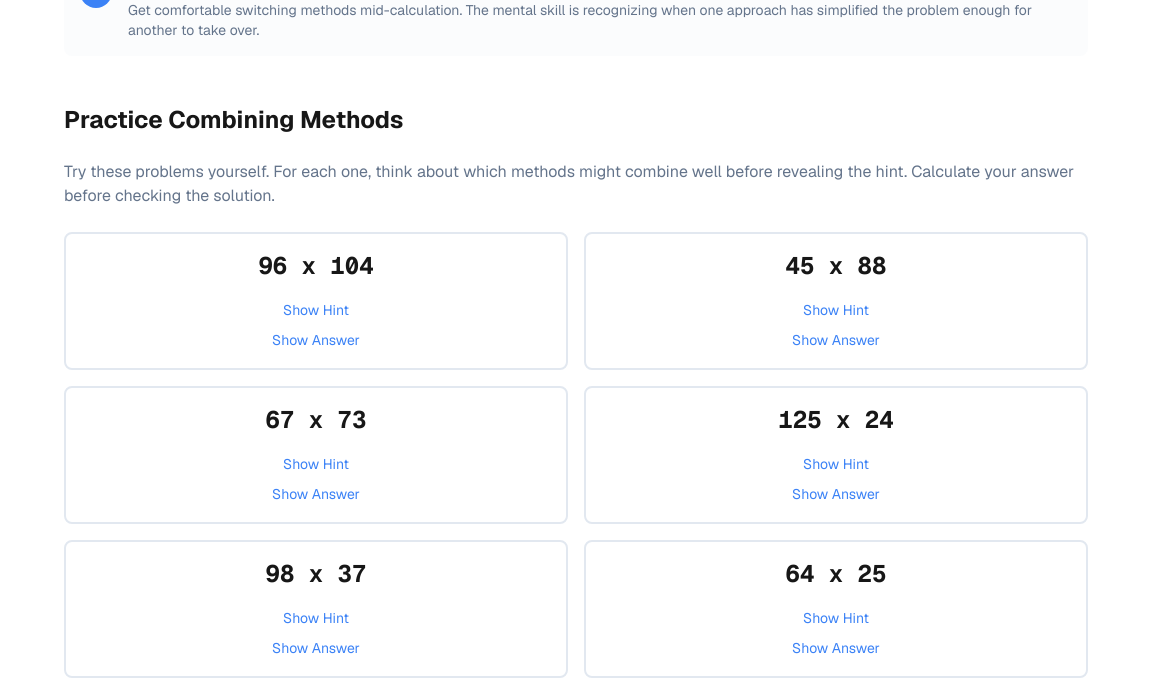
Test: CombiningTechniquesPage › mathematical correctness › should display correct answers for practice problems
(page scrolled)
# Check first few problems have correct answers (format: "Answer: X")
What coordinates should you click on to do the following:
click the 1st button "Show Answer"
I would click on:
 (316, 340)
Its box is [82,330,550,350].
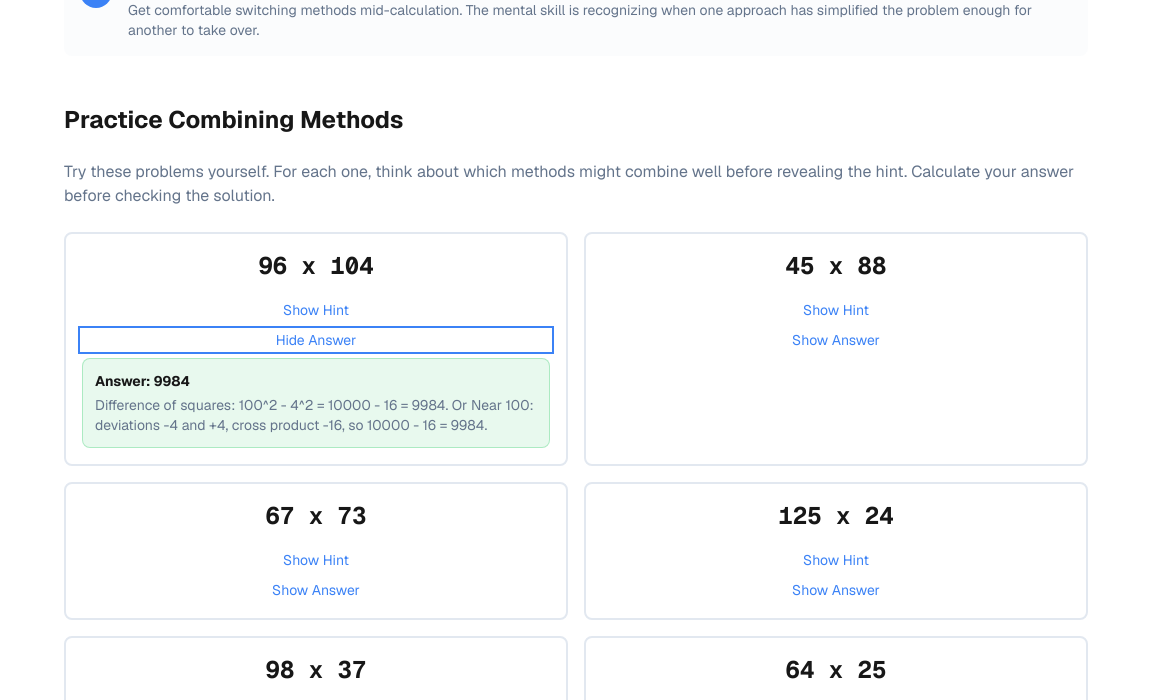
Result: the text "Answer: 9984" is shown at [95,372,190,390]
What coordinates should you click on to do the following:
click the 1st button "Show Answer"
I would click on:
 (836, 340)
Its box is [602,330,1070,350].
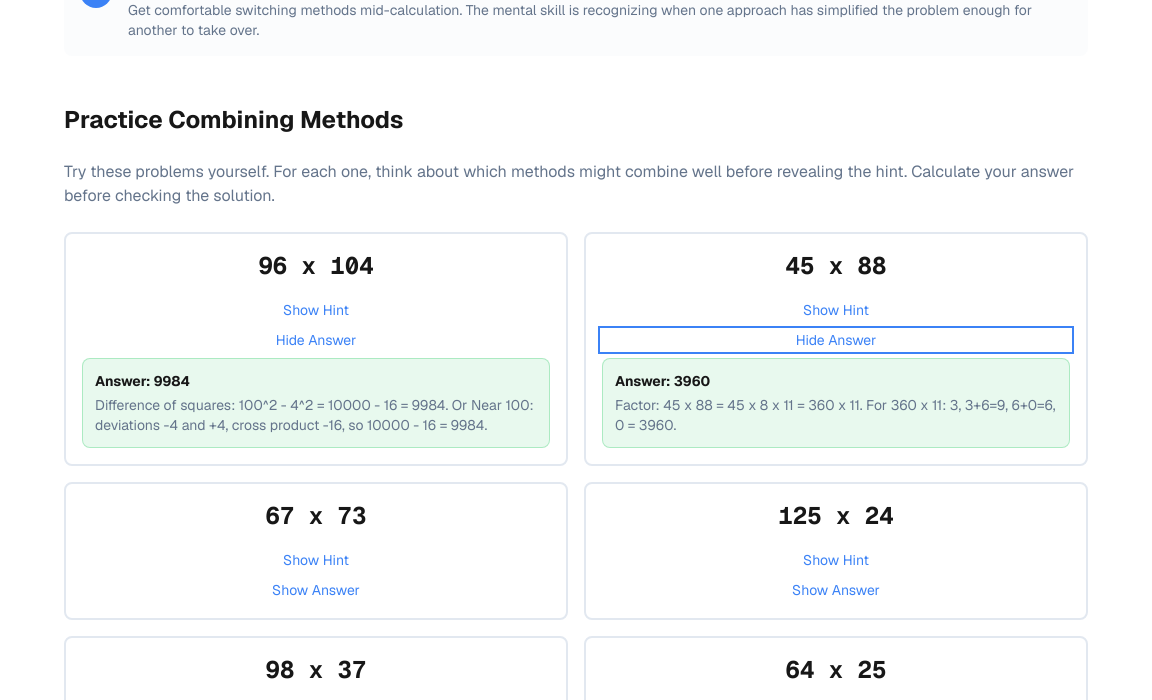
Result: the text "Answer: 3960" is shown at [615,372,710,390]
What coordinates should you click on to do the following:
click the button "Show Answer" below "73"
I would click on:
 (316, 590)
Its box is [82,580,550,600].
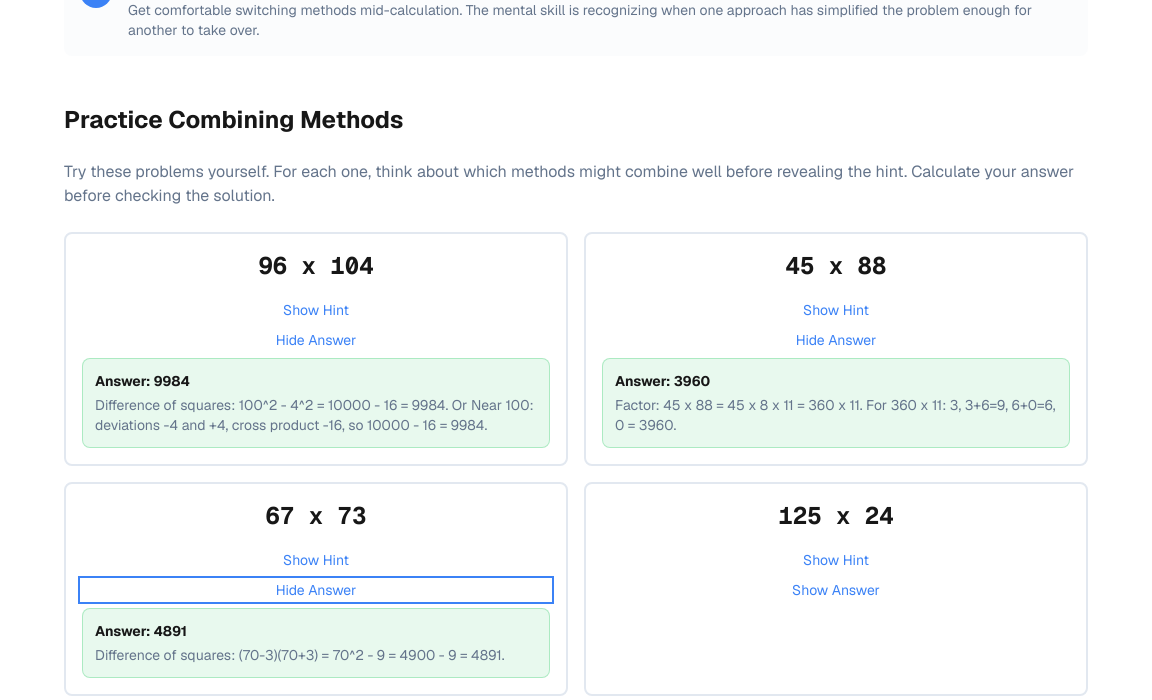
Result: the text "Answer: 4891" is shown at [95,622,187,640]
